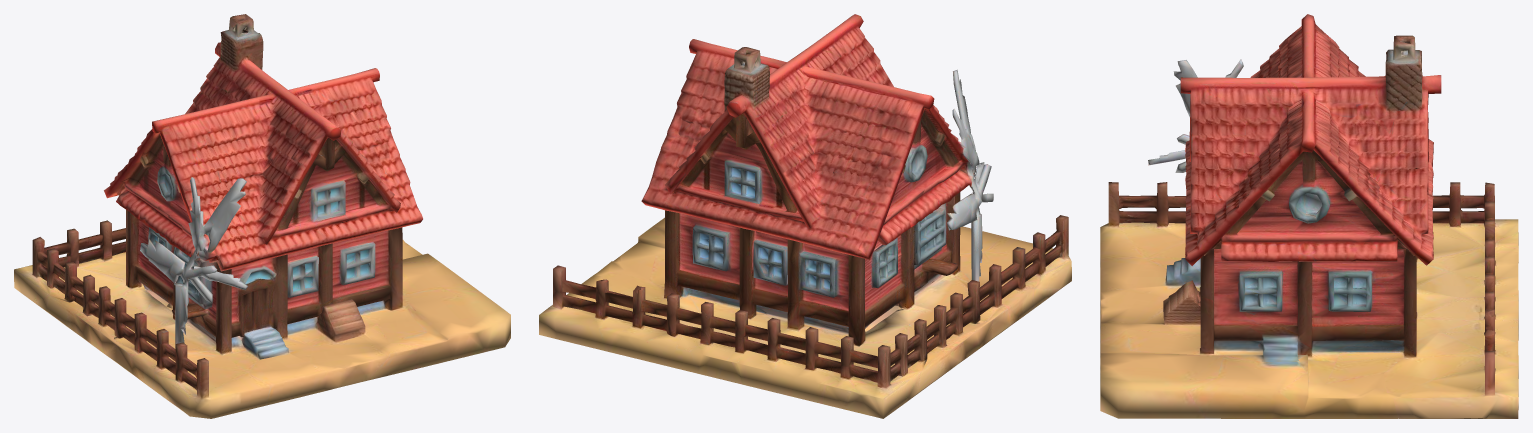
File: townhall.glb
3 views of the same model, side by side, from view 1: azimuth 30°, elevation 25°; view 2: azimuth 150°, elevation 25°; view 3: azimuth 270°, elevation 25° (orthographic). The views are drawn at different scales.
Size of the model in its own units: 1.91 by 1.49 by 1.89.
1 material, 1 textured.
